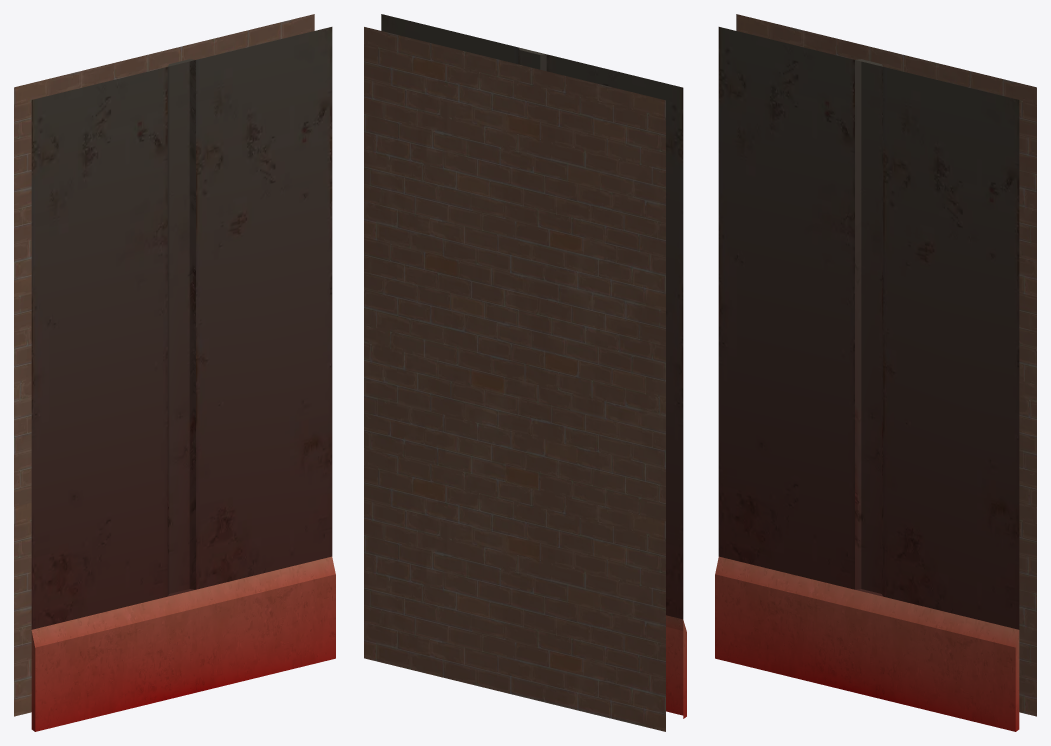
Rendered from mod-fachada-metal.gltf.
3 views of the same model, side by side, from view 1: azimuth 30°, elevation 25°; view 2: azimuth 150°, elevation 25°; view 3: azimuth 330°, elevation 25° (orthographic).
Visible parts, largest first — view 1: Metal_FirstFloor_Wall; view 2: Metal_FirstFloor_Wall; view 3: Metal_FirstFloor_Wall.
Part boxes in pixels (bbox=[...]): Metal_FirstFloor_Wall: bbox=[14, 14, 335, 731]; Metal_FirstFloor_Wall: bbox=[364, 14, 686, 731]; Metal_FirstFloor_Wall: bbox=[715, 14, 1036, 731].
Bounding box in the file's own units: 1 × 2 × 0.121.
Materials: 3 (3 with a texture image).
